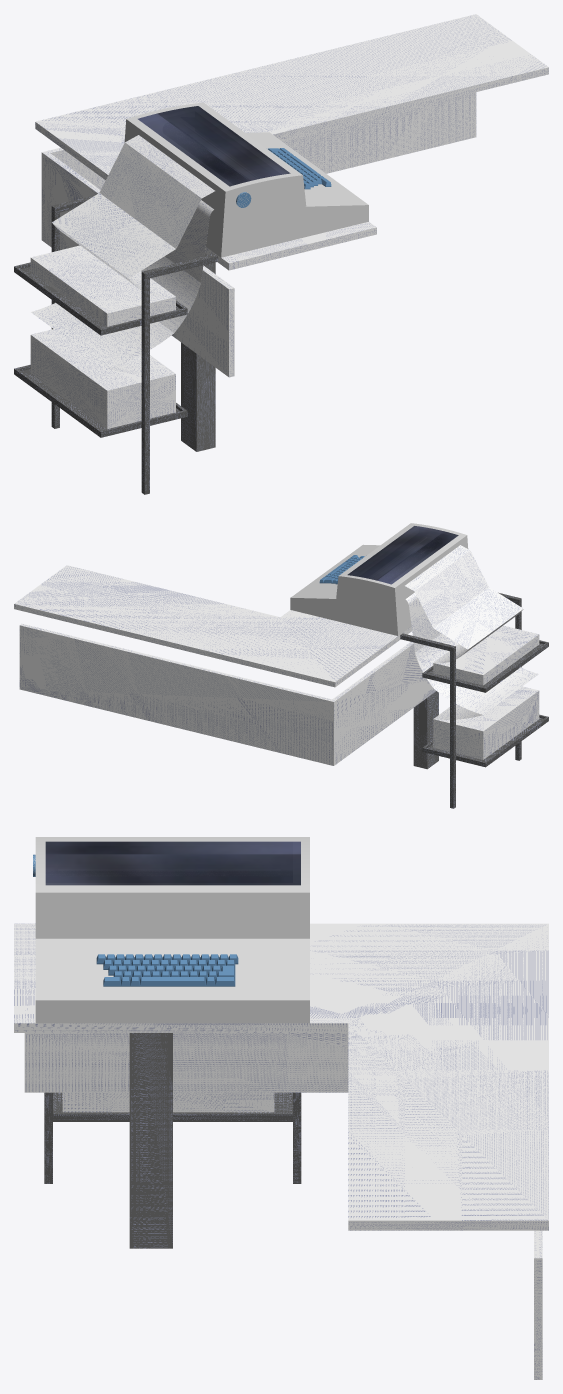
Rendered from terminal-typewriter.dae.
3 renders of one model, top to bottom at view 1: azimuth 30°, elevation 25°; view 2: azimuth 150°, elevation 25°; view 3: azimuth 270°, elevation 25°, orthographic. The views are drawn at different scales.
Visible parts, largest first — view 1: table (×4), Component_2 (×2), terminal_typewriter (×2), terminal; view 2: table (×6), Component_2 (×2), terminal_typewriter (×2), terminal; view 3: table (×4), terminal_typewriter (×2), terminal, Component_2.
Boxes of the visible parts, x1=… form: table (×4): x1=14, y1=14, x2=548, y2=494; Component_2 (×2): x1=30, y1=135, x2=214, y2=429; terminal_typewriter (×2): x1=124, y1=102, x2=368, y2=257; terminal: x1=268, y1=148, x2=331, y2=189; table (×6): x1=14, y1=565, x2=548, y2=808; Component_2 (×2): x1=405, y1=545, x2=539, y2=759; terminal_typewriter (×2): x1=290, y1=523, x2=468, y2=635; terminal: x1=319, y1=555, x2=366, y2=584; table (×4): x1=14, y1=923, x2=548, y2=1379; terminal_typewriter (×2): x1=35, y1=837, x2=309, y2=1023; terminal: x1=96, y1=954, x2=238, y2=986; Component_2: x1=62, y1=1092, x2=274, y2=1112.
Bounding box in the file's own units: 80.51 × 48.68 × 39.86.
Materials: 8 (1 with a texture image).
